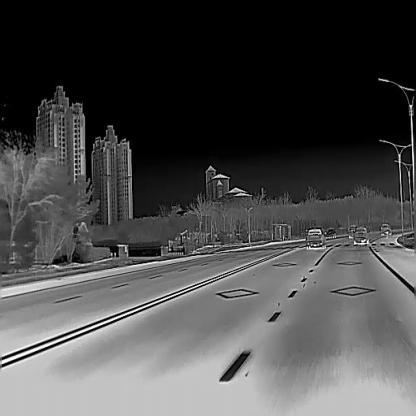car: (305, 227, 326, 249), (353, 225, 368, 245), (380, 223, 392, 236), (324, 228, 336, 238), (348, 226, 356, 237)
